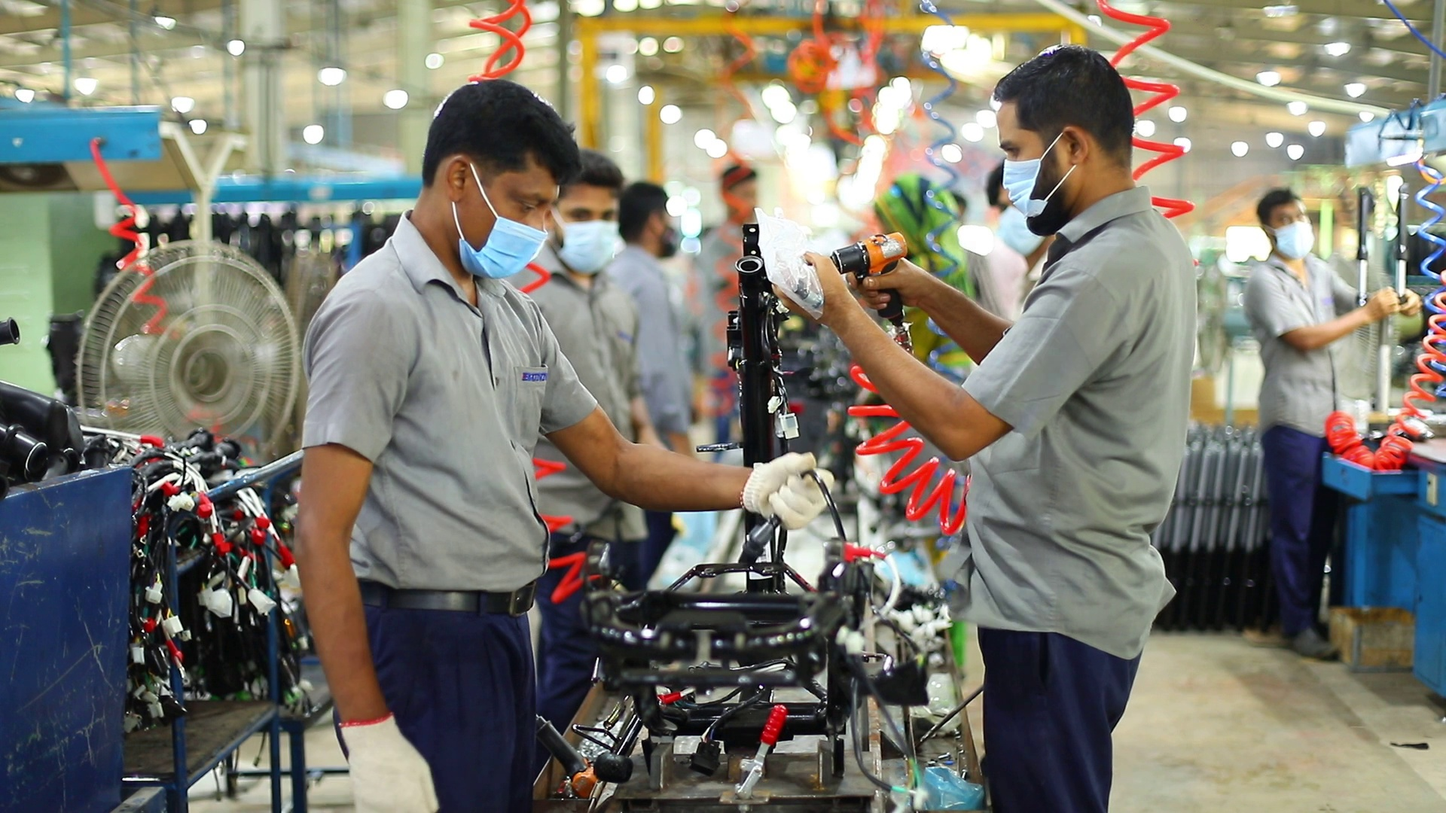mask: (461, 215, 548, 280), (559, 220, 623, 274), (1002, 159, 1054, 220), (996, 213, 1042, 255), (1269, 220, 1312, 260)
person: (298, 78, 834, 813), (773, 41, 1201, 813), (516, 147, 664, 735), (1240, 184, 1420, 662), (604, 181, 696, 583), (688, 160, 764, 449), (958, 163, 1047, 323)
